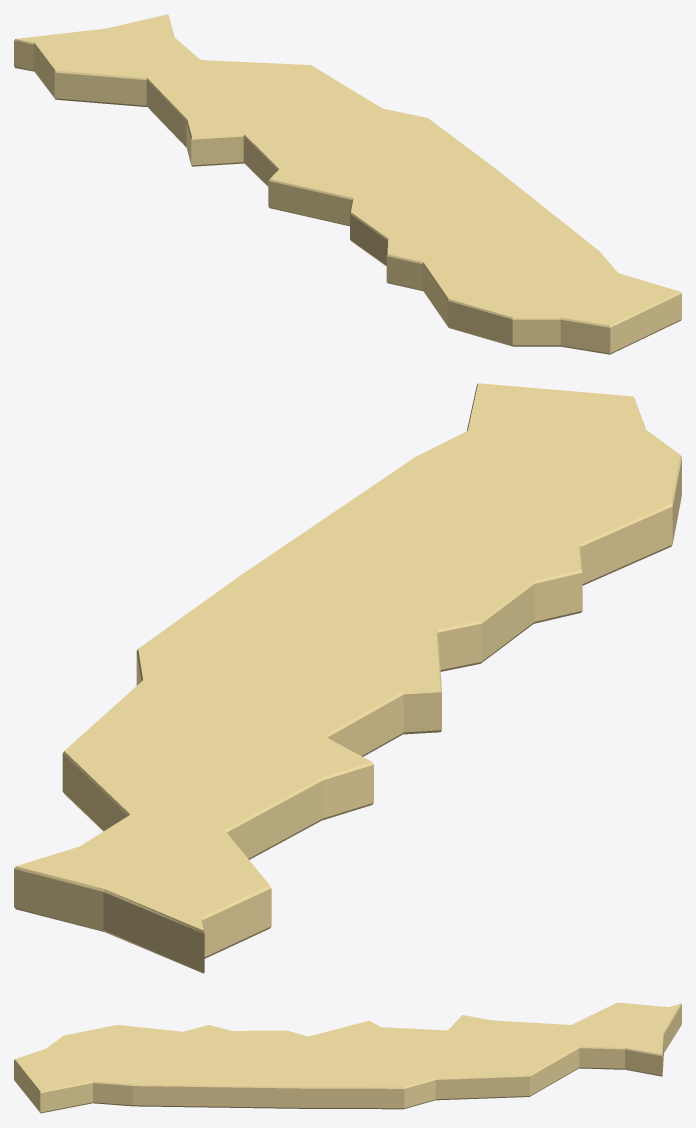
Rendered from TGO.glb.
3 renders of one model, top to bottom at view 1: azimuth 30°, elevation 25°; view 2: azimuth 150°, elevation 25°; view 3: azimuth 270°, elevation 25°, orthographic. The views are drawn at different scales.
Size of the model in its own units: 0.5968 by 0.068 by 1.88.
